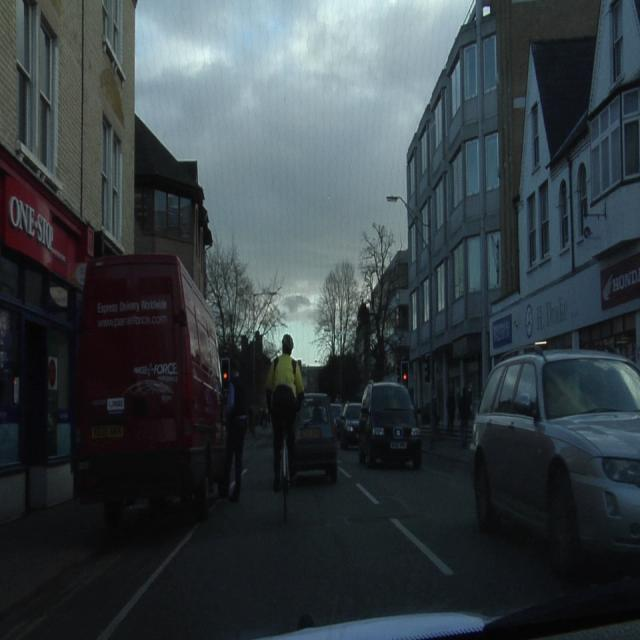Bicyclist: (271, 337, 301, 490)
Building: (0, 0, 211, 521), (408, 0, 609, 427)
Car: (473, 351, 639, 569), (359, 382, 421, 466), (290, 394, 337, 481), (337, 403, 360, 447)
Road: (4, 438, 636, 635)
Tree: (315, 223, 409, 399), (208, 242, 285, 356), (361, 223, 394, 295)
Truck_Bus: (74, 255, 221, 520)
person: (220, 362, 246, 501)
